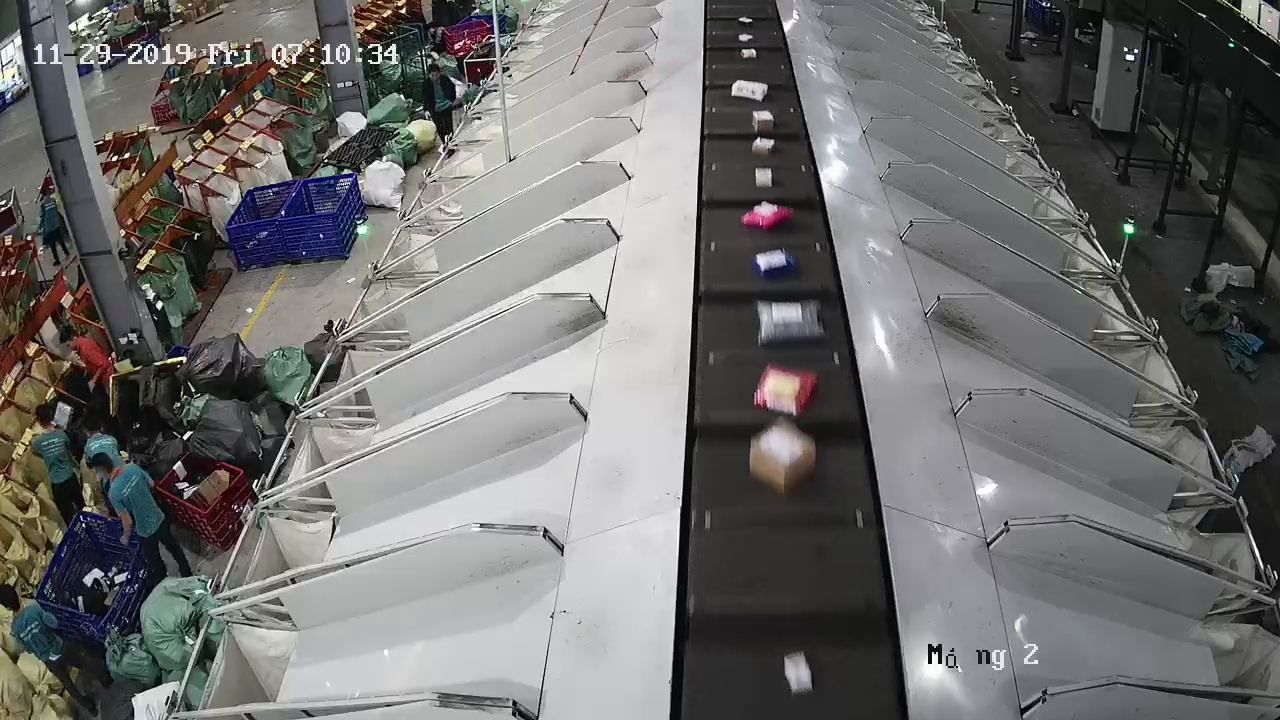parcel: (749, 417, 819, 497), (755, 297, 829, 348), (753, 362, 820, 417), (741, 201, 795, 233), (751, 247, 797, 279), (783, 650, 813, 695), (751, 110, 775, 133), (751, 136, 775, 157), (755, 167, 773, 188)
